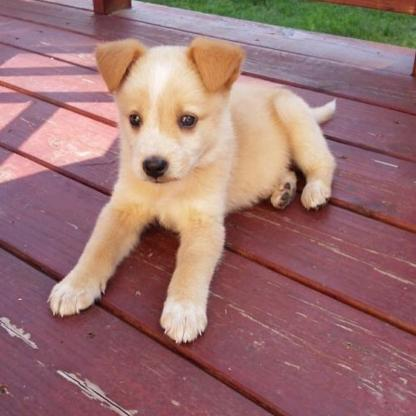Labarador Retriever: (47, 38, 339, 346)
